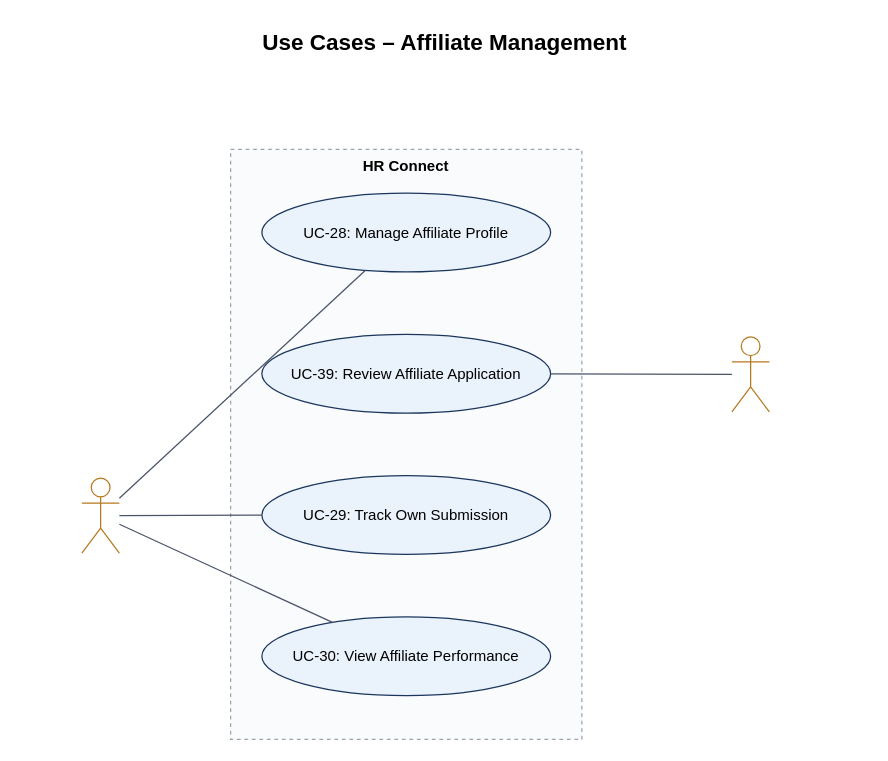
The diagram is 888 pixels wide and 761 high, and some of its shapes have lost their labels. Here are the shapes that lost their labels. From the top down, the centre of each, then its label:
At pixel 750 374: "Platform Admin".
At pixel 100 515: "Affiliate".
